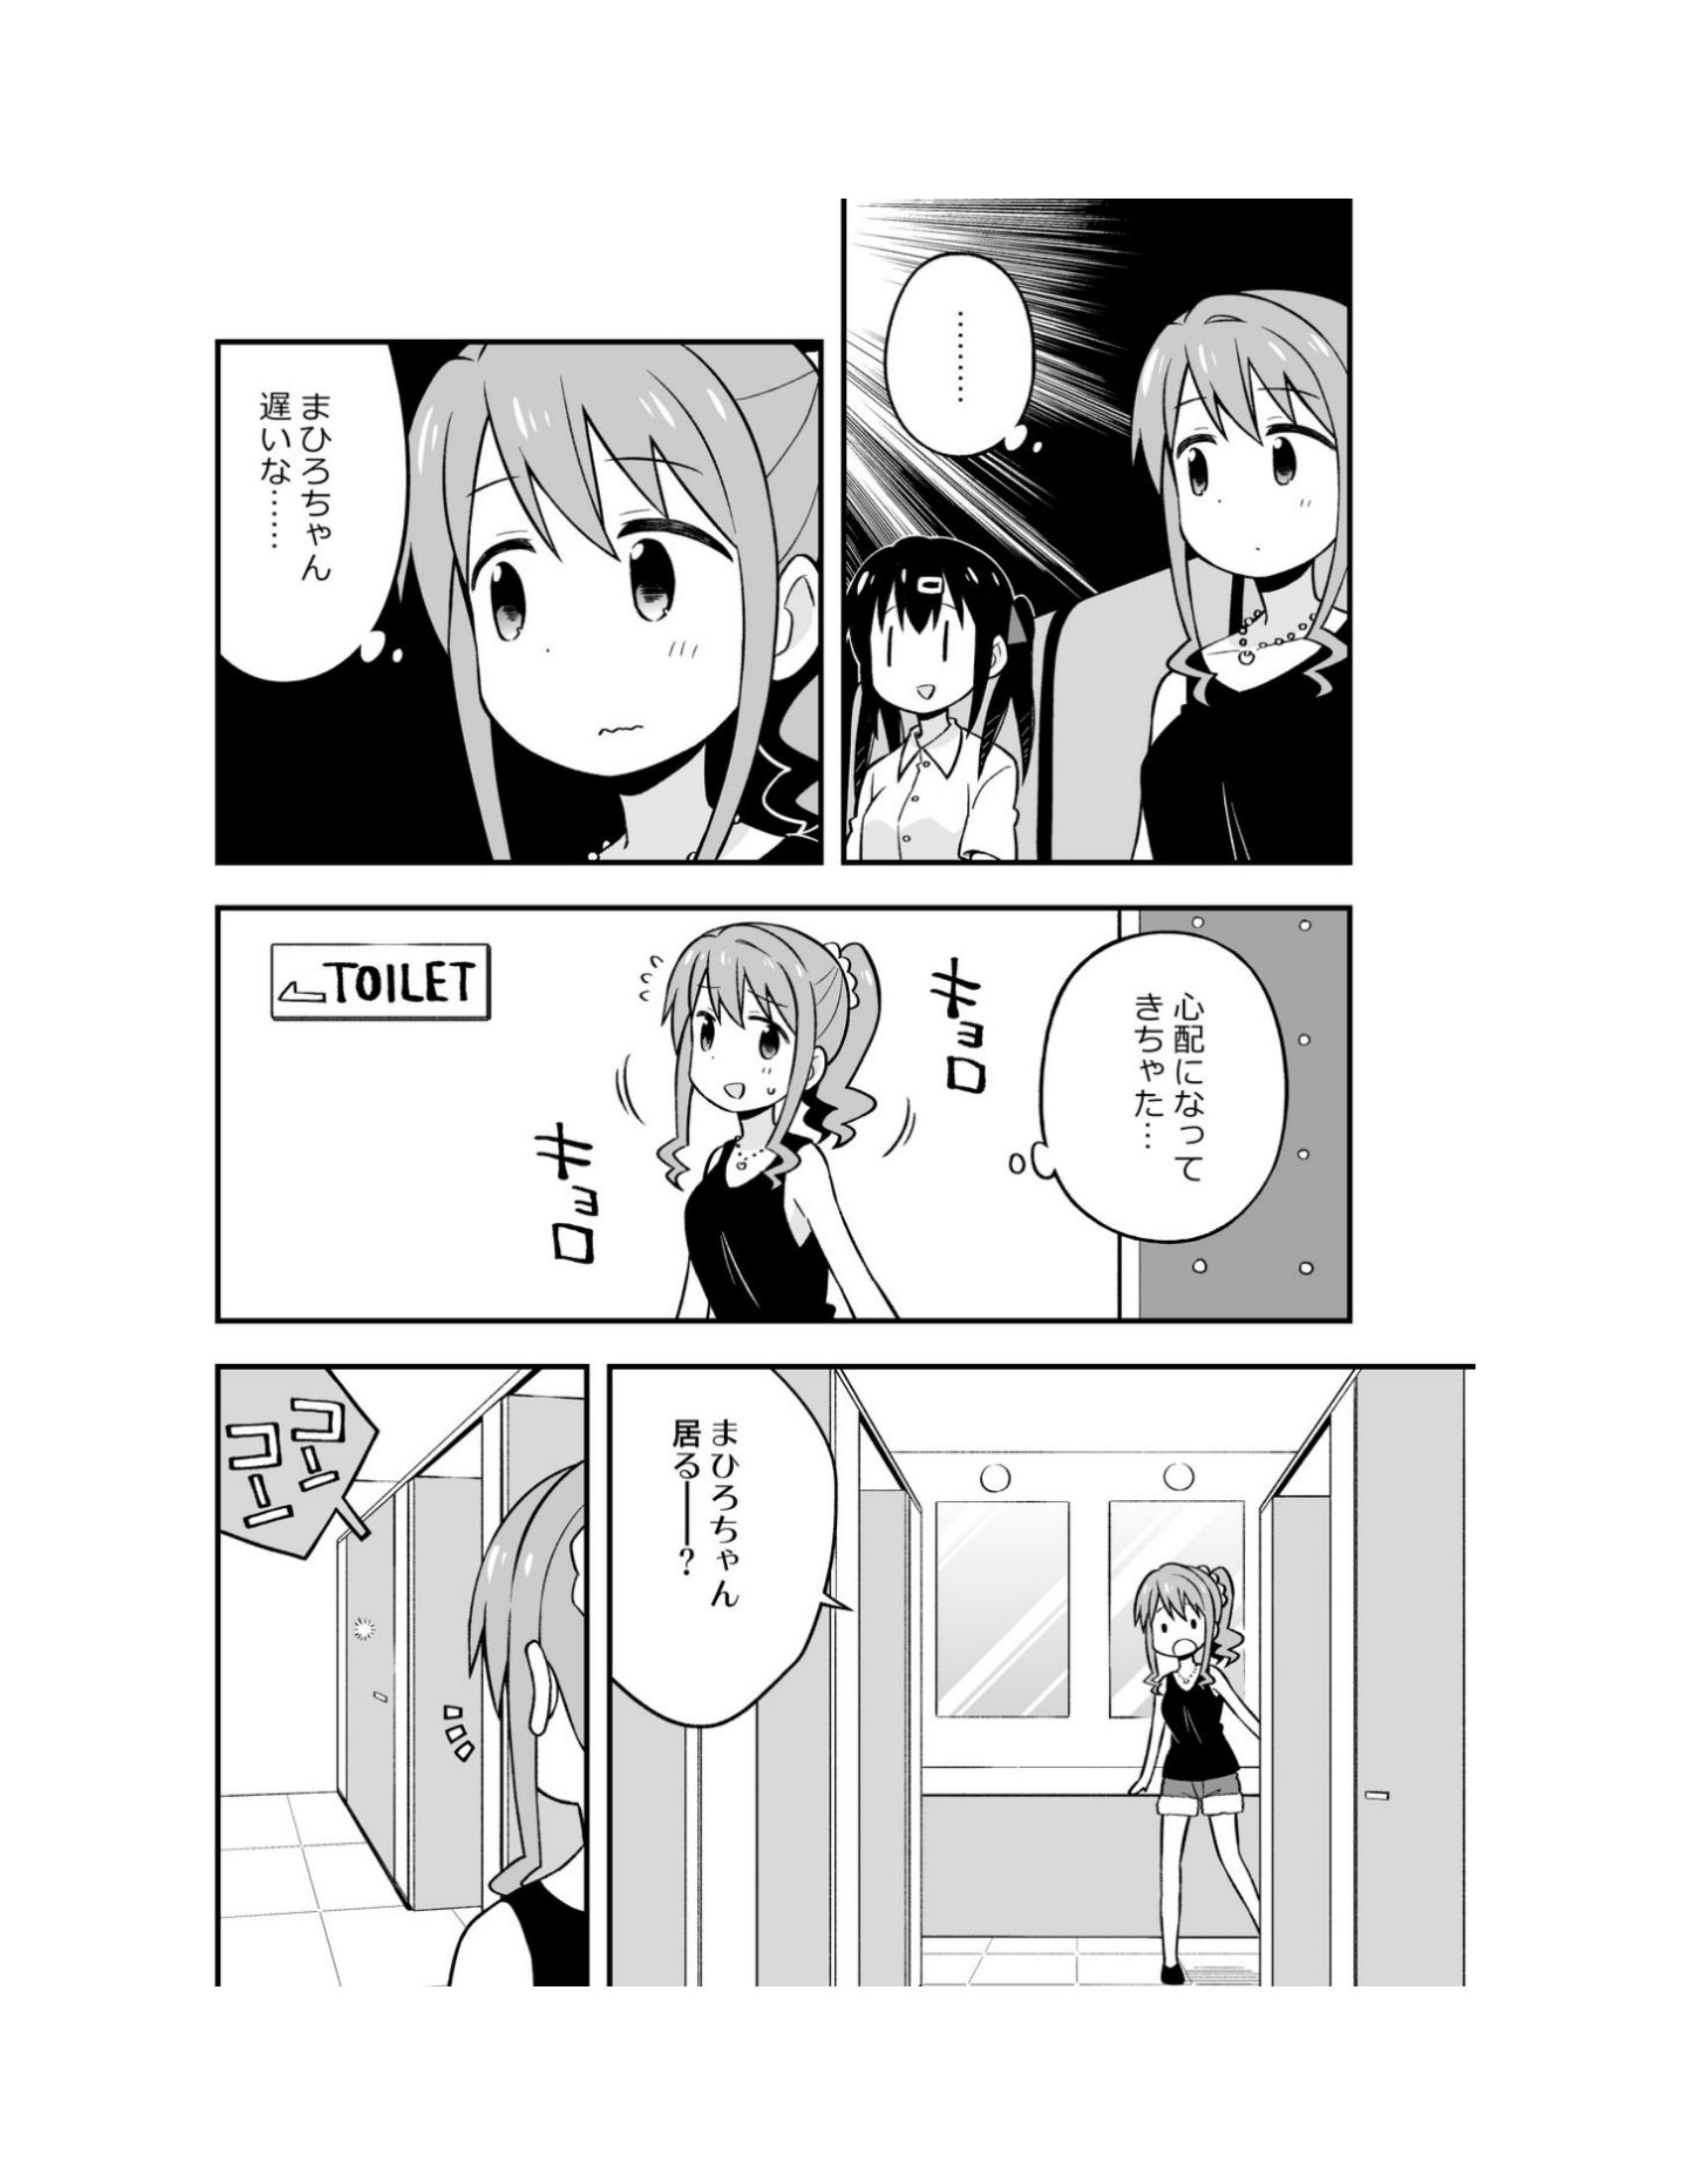a: (560, 1360, 874, 1764), (995, 885, 1284, 1278), (200, 337, 422, 720)
